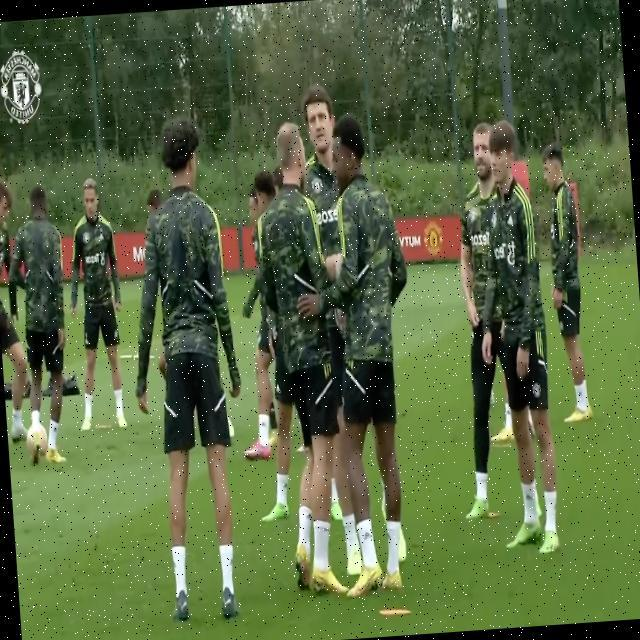Adidas: (361, 527, 372, 543), (524, 489, 534, 505), (505, 212, 514, 228)
